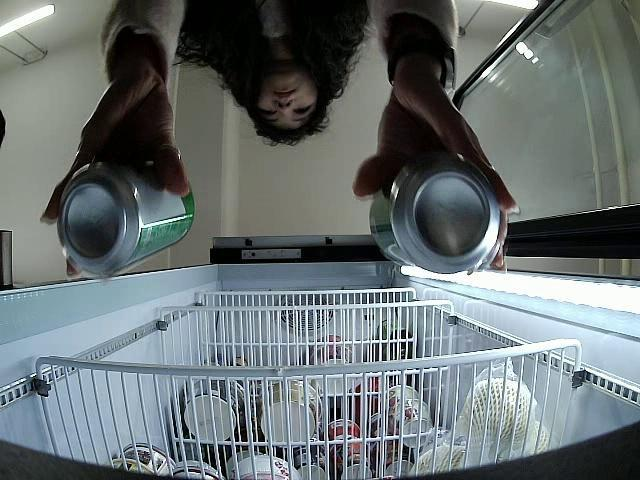12_chilsungCider: (58, 162, 195, 278), (369, 163, 500, 272)
